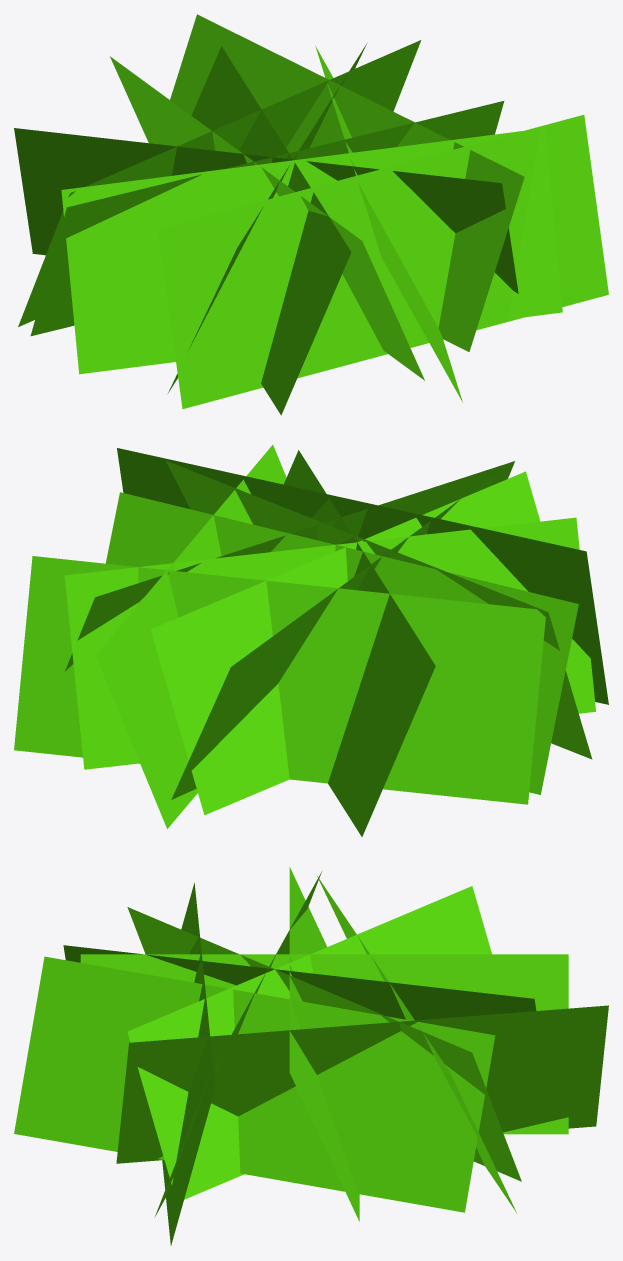
The model's file is Hierba.fbx.
The picture shows the model from 3 angles, top to bottom: view 1: azimuth 30°, elevation 25°; view 2: azimuth 150°, elevation 25°; view 3: azimuth 270°, elevation 25°; orthographic projection. The views are drawn at different scales.
Parts seen in each view (by area): view 1: Plane.227; view 2: Plane.227; view 3: Plane.227.
Part boxes in pixels (x1,y1,x2,y2): Plane.227: [14, 14, 608, 415]; Plane.227: [14, 445, 608, 836]; Plane.227: [14, 867, 608, 1245].
Size of the model in its own units: 119 by 132 by 38.76.
